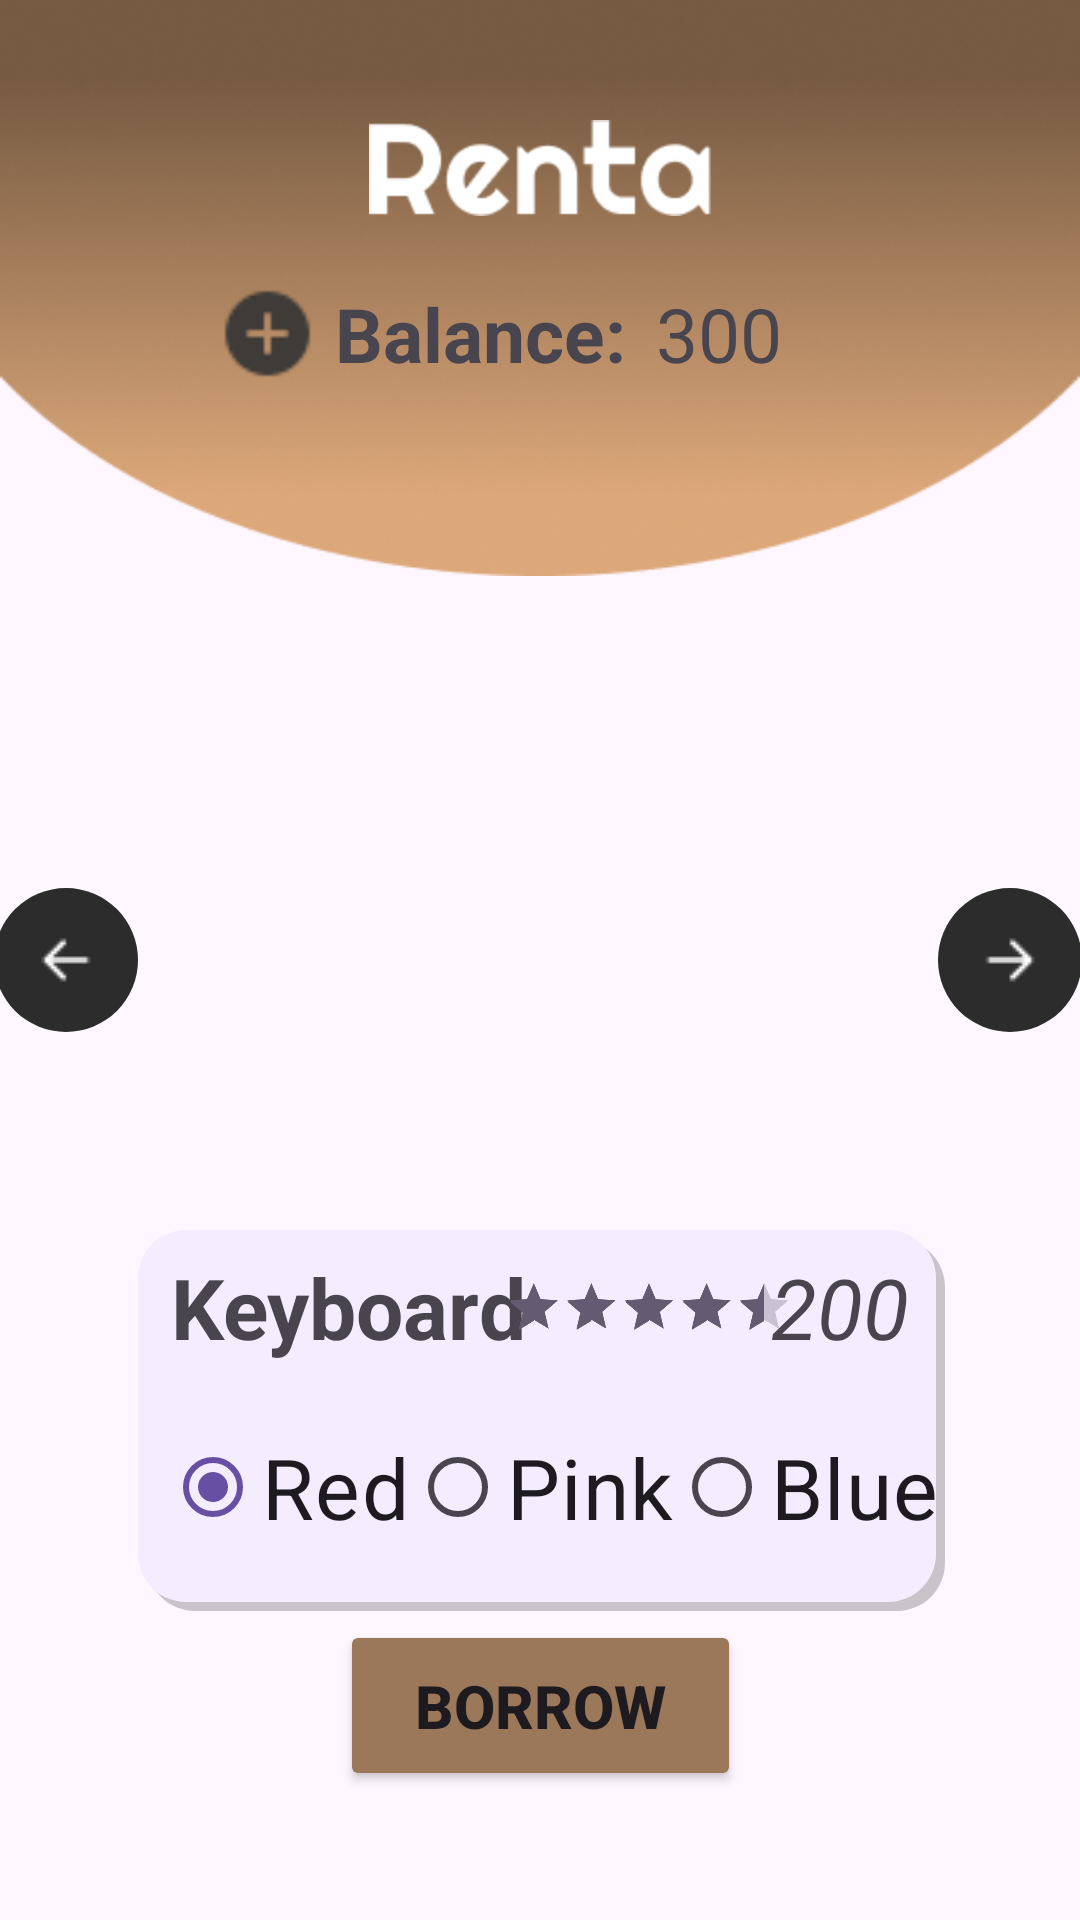

Locate icon controls on the screen. Image size 1080px×1920px, boxes as (x1=x1, y1=y1, x2=x2, y2=y2).
Next Button: (x1=938, y1=888, x2=1080, y2=1032)
Previous Button: (x1=0, y1=888, x2=138, y2=1032)
